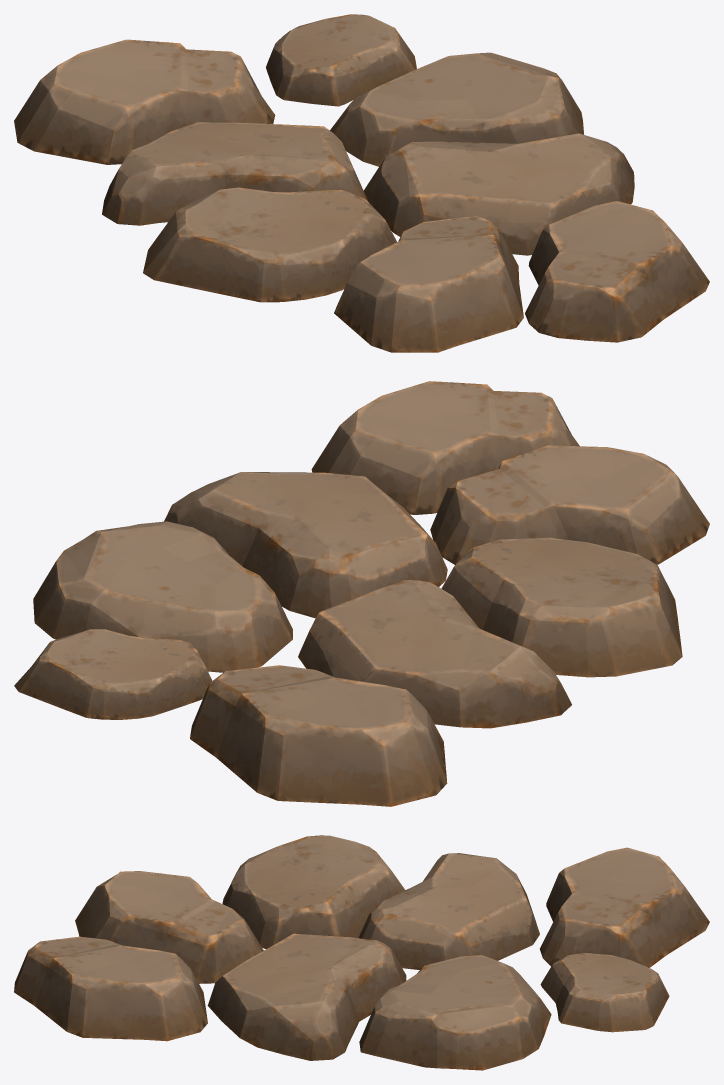
The model's file is DesertRockPath_Round_Small_1.obj.
3 renders of one model, top to bottom at view 1: azimuth 30°, elevation 25°; view 2: azimuth 150°, elevation 25°; view 3: azimuth 270°, elevation 25°, orthographic. The views are drawn at different scales.
Parts seen in each view (by area): view 1: DesertRockPath_Round_Small_1; view 2: DesertRockPath_Round_Small_1; view 3: DesertRockPath_Round_Small_1.
Part boxes in pixels (box(x1,y1,x2,y2)): DesertRockPath_Round_Small_1: box(14, 14, 709, 352); DesertRockPath_Round_Small_1: box(14, 381, 709, 806); DesertRockPath_Round_Small_1: box(14, 835, 709, 1070).
Bounding box in the file's own units: 1.06 × 0.1128 × 1.48.
1 material, 1 textured.
